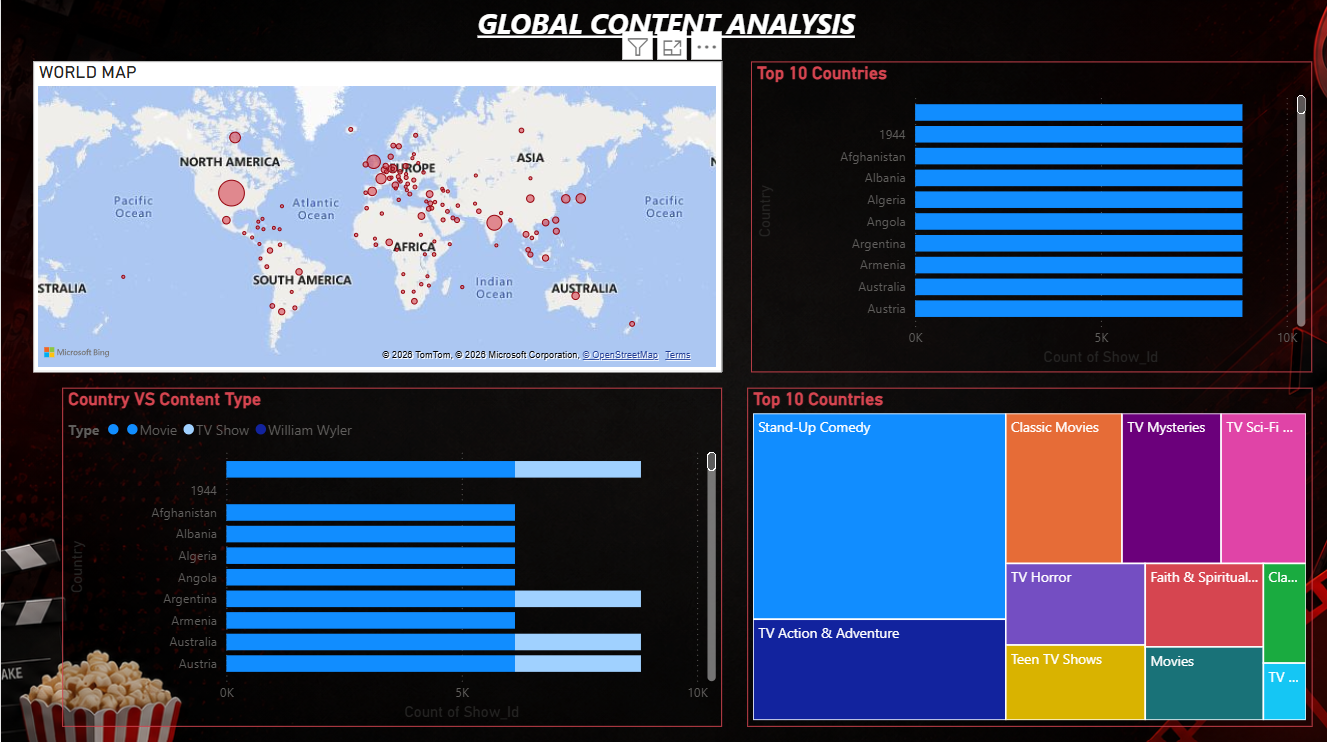

What the dashboard file says about the page in this screenshot:
{"tool":"powerbi","page":{"name":"Page 3","canvas":[1280,720],"ordinal":2},"visuals":[{"type":"textbox","box":[454.3,0,420,70],"z":0},{"type":"map","title":"WORLD MAP","fields":{"Category":["Countries.Country"],"Size":["CountNonNull(Countries.show_id)"]},"box":[31.4,60,664.3,300],"z":1},{"type":"clusteredBarChart","title":"Top 10 Countries","fields":{"Category":["Countries.Country"],"Y":["CountNonNull(netflix_titles.Show_Id)"]},"box":[724.3,60,541.4,300],"z":2},{"type":"treemap","title":"Top 10 Countries","fields":{"Group":["Genre.Genre"],"Values":["CountNonNull(Genre.show_id)"]},"box":[720,375.7,545.7,327.1],"z":3},{"type":"barChart","title":"Country VS Content Type","fields":{"Category":["Countries.Country"],"Series":["netflix_titles.Type"],"Y":["CountNonNull(netflix_titles.Show_Id)"]},"box":[58.6,375.7,637.1,327.1],"z":4}]}

Visuals, with their boxes in screenshot pixels (x1, y1, x2, y2), scaled from the page's 1280x720 canvas onto the 1327x742 screenshot:
textbox: l=471, t=0, r=906, b=72
"WORLD MAP" map: l=33, t=62, r=721, b=371
"Top 10 Countries" clusteredBarChart: l=751, t=62, r=1312, b=371
"Top 10 Countries" treemap: l=746, t=387, r=1312, b=724
"Country VS Content Type" barChart: l=61, t=387, r=721, b=724
